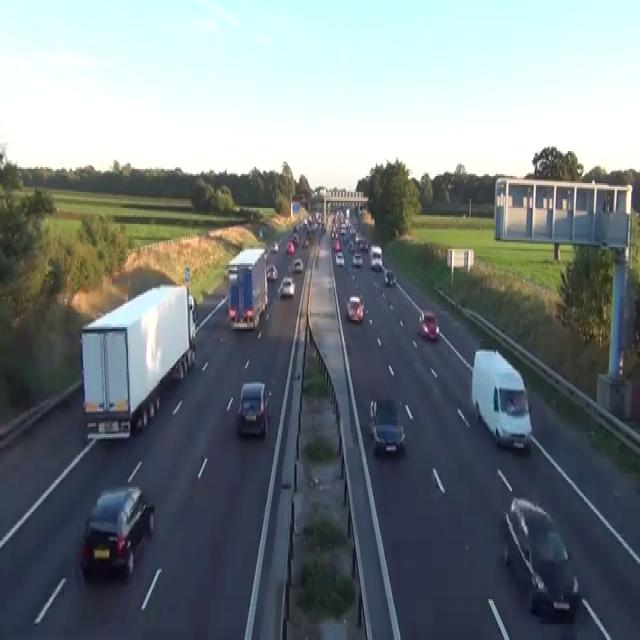Car: (502, 496, 579, 620), (80, 484, 154, 580), (529, 532, 579, 620), (369, 397, 405, 455), (236, 380, 272, 438), (418, 310, 439, 340), (346, 294, 364, 324), (278, 275, 295, 297), (188, 293, 197, 322), (383, 268, 396, 286), (55, 292, 69, 308), (266, 263, 278, 281), (357, 236, 368, 252), (352, 250, 362, 266), (292, 258, 303, 272), (335, 250, 344, 266), (371, 258, 382, 270), (258, 226, 268, 238), (291, 231, 299, 245), (285, 242, 294, 254), (332, 238, 340, 251), (339, 222, 346, 235), (270, 242, 278, 252), (263, 246, 268, 262), (301, 238, 308, 249), (347, 240, 354, 251), (300, 196, 307, 204), (303, 217, 308, 226), (258, 228, 262, 238)
Truck: (79, 281, 197, 441), (471, 348, 532, 450), (227, 247, 268, 331)
